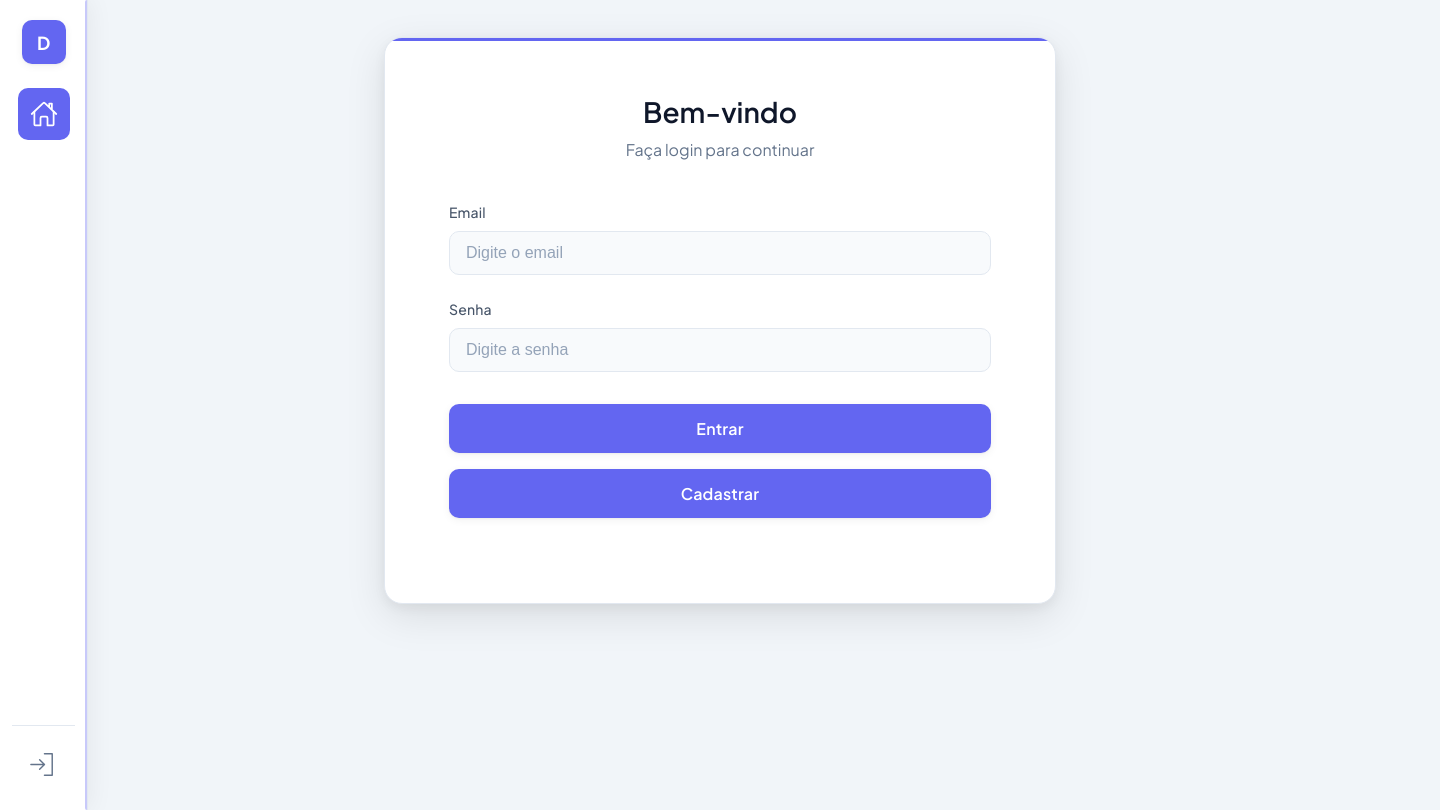
Test case: Login Page › should  redirect to the register page after click on Cadastrar
Click the button "Cadastrar" at [720, 494], box x1=449 y1=469 x2=991 y2=518
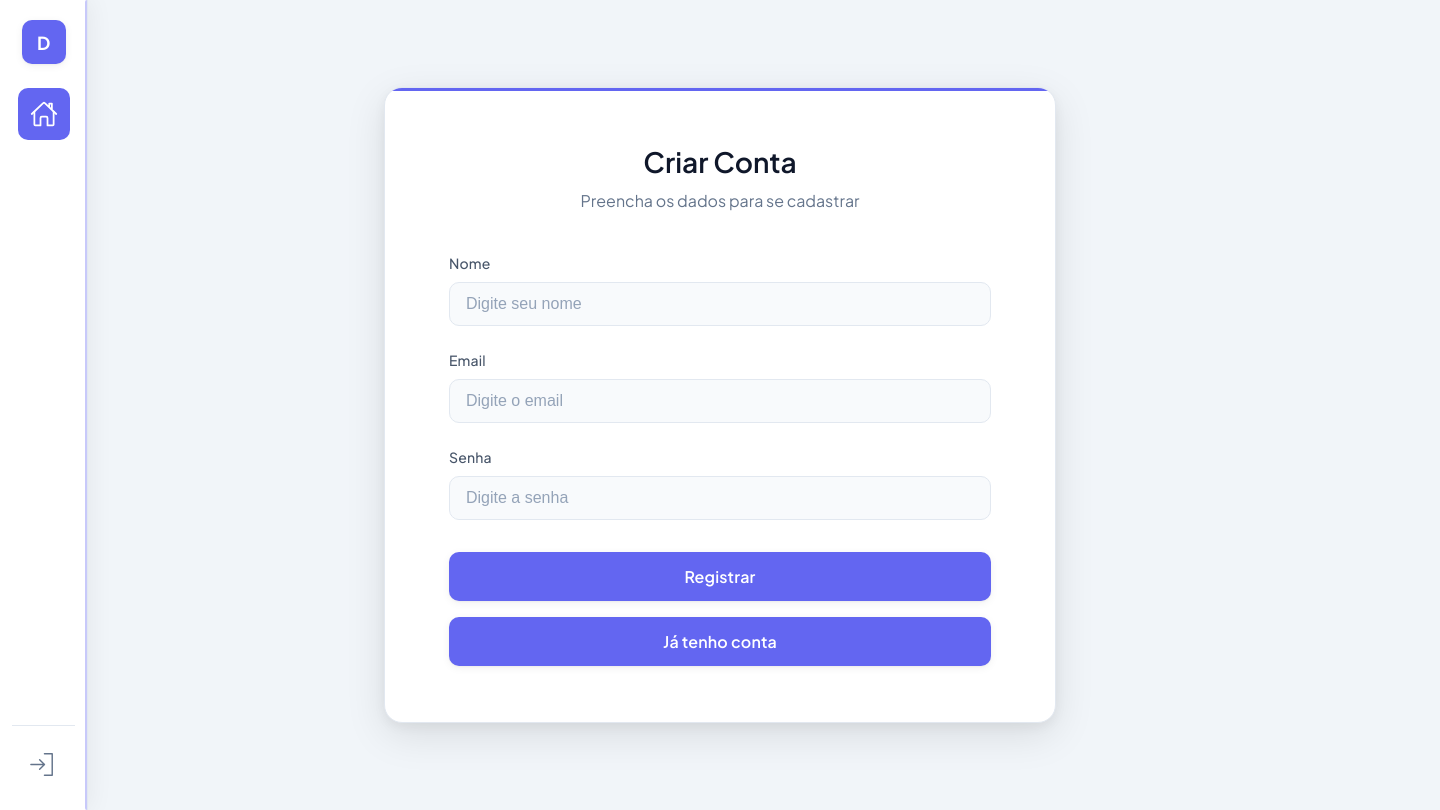
Check: the text "Nome" is shown, box x1=449 y1=254 x2=490 y2=272
